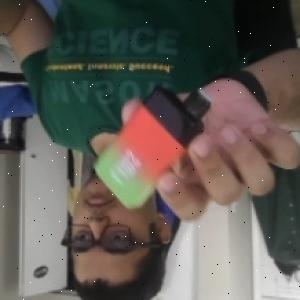Swift-E-Ciggirate: (91, 82, 213, 212)
